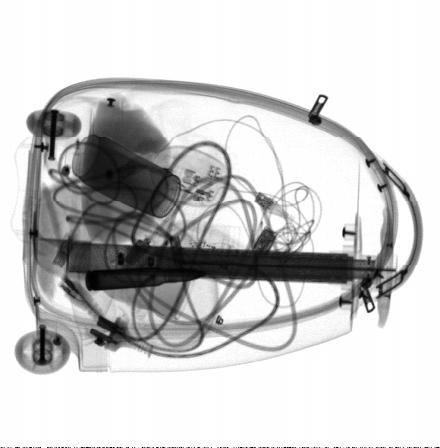Bullet: (84, 267, 209, 292)
